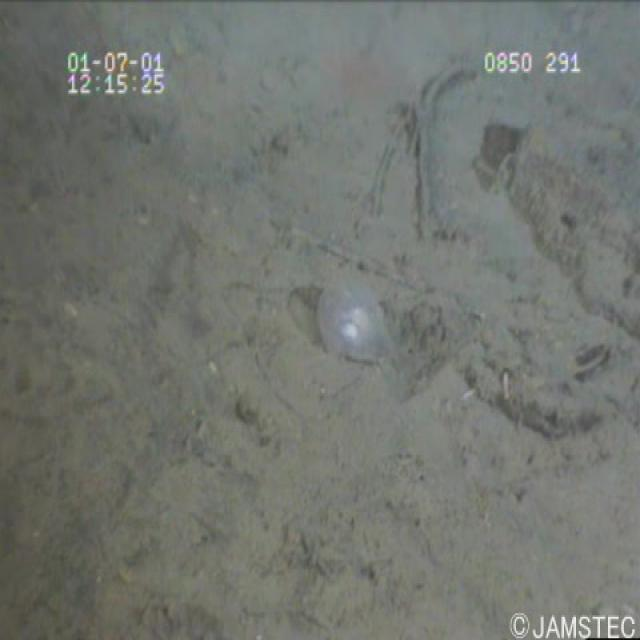plastic: (308, 258, 395, 373)
